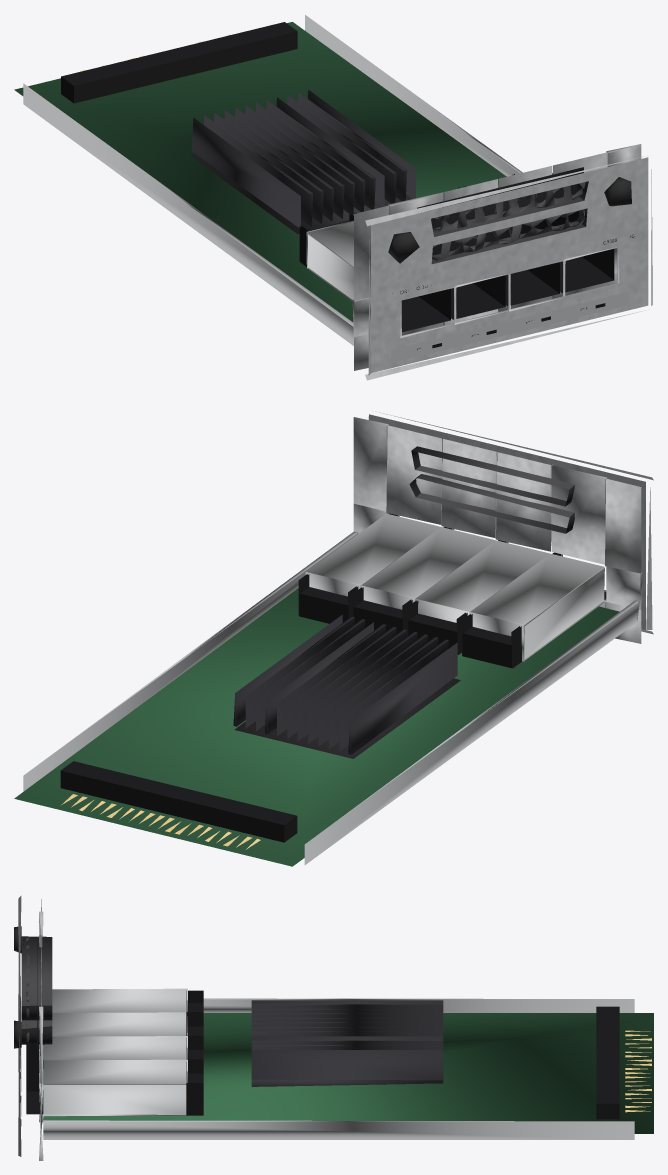
Rendered from C9300-NM-4G.far.glb.
The picture shows the model from 3 angles, top to bottom: view 1: azimuth 30°, elevation 25°; view 2: azimuth 150°, elevation 25°; view 3: azimuth 270°, elevation 25°; orthographic projection. The views are drawn at different scales.
Parts seen in each view (by area): view 1: Body_far; view 2: Body_far; view 3: Body_far.
Part boxes in pixels (<box>): Body_far: <box>14,15,652,380</box>; Body_far: <box>14,412,653,866</box>; Body_far: <box>14,895,653,1160</box>.
Size of the model in its own units: 0.0772 by 0.0406 by 0.167.
4 materials, 3 textured.
